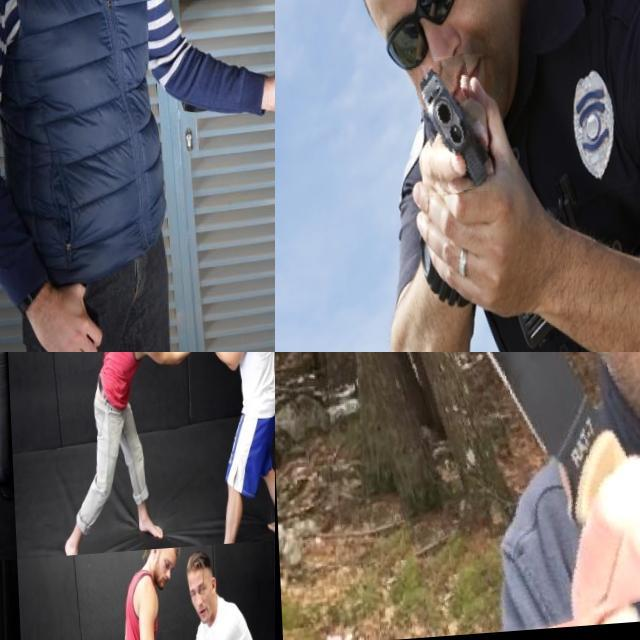-: (311, 352, 640, 640), (0, 374, 26, 425), (191, 352, 229, 363)
gun-knife-thesis - v11 Yolov5 augmented: (415, 59, 486, 200)
